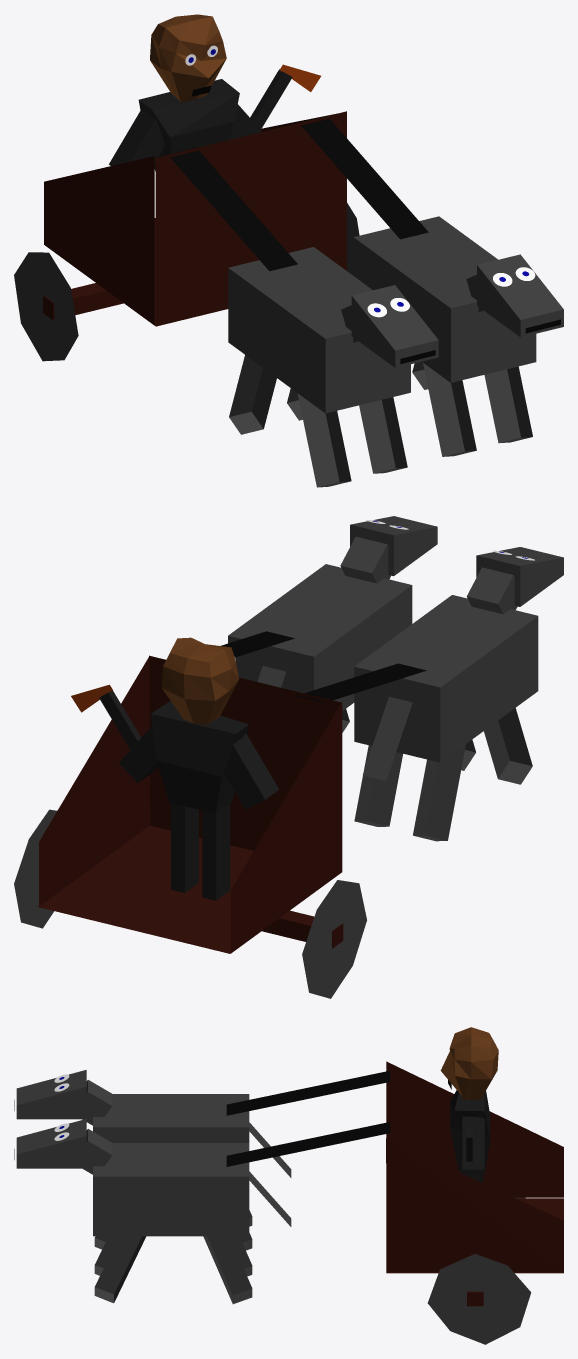
The model's file is lightchariot3.obj.
3 views of the same model, one above another, from view 1: azimuth 30°, elevation 25°; view 2: azimuth 150°, elevation 25°; view 3: azimuth 270°, elevation 25° (orthographic). The views are drawn at different scales.
Visible parts, largest first — view 1: Plane.005_Plane.006, Cube.015_Cube.017, Cube.006_Cube.009, Plane.003, Plane.007_Plane.008, Cube, Cube.001, Cube.021_Cube.023, Cube.014_Cube.016, Plane.013_Plane.014, Plane.012_Plane.013, Cube.019_Cube.021 (+7 smaller); view 2: Cube.015_Cube.017, Cube.006_Cube.009, Plane.003, Plane.002, Plane.004, Plane.005_Plane.006, Cube.001, Cube, Plane.007_Plane.008, Cube.016_Cube.018, Cube.021_Cube.023, Cube.014_Cube.016 (+14 smaller); view 3: Plane.004, Cube.006_Cube.009, Plane.003, Cube.015_Cube.017, Plane.006_Plane.007, Cube, Cube.021_Cube.023, Cube.014_Cube.016, Plane.012_Plane.013, Plane.013_Plane.014, Cube.011_Cube.013, Cube.010_Cube.012 (+7 smaller).
Boxes of the visible parts, x1=… form: Plane.005_Plane.006: x1=155, y1=111, x2=346, y2=326; Cube.015_Cube.017: x1=228, y1=247, x2=410, y2=413; Cube.006_Cube.009: x1=353, y1=216, x2=536, y2=382; Plane.003: x1=44, y1=156, x2=154, y2=325; Plane.007_Plane.008: x1=14, y1=252, x2=78, y2=361; Cube: x1=150, y1=14, x2=226, y2=101; Cube.001: x1=138, y1=79, x2=239, y2=171; Cube.021_Cube.023: x1=351, y1=285, x2=438, y2=367; Cube.014_Cube.016: x1=477, y1=254, x2=563, y2=337; Plane.013_Plane.014: x1=298, y1=115, x2=428, y2=239; Plane.012_Plane.013: x1=167, y1=147, x2=297, y2=271; Cube.019_Cube.021: x1=297, y1=393, x2=351, y2=487; Cube.015_Cube.017: x1=354, y1=595, x2=538, y2=762; Cube.006_Cube.009: x1=228, y1=564, x2=412, y2=710; Plane.003: x1=231, y1=701, x2=342, y2=953; Plane.002: x1=37, y1=825, x2=253, y2=953; Plane.004: x1=39, y1=657, x2=150, y2=906; Plane.005_Plane.006: x1=149, y1=655, x2=341, y2=850; Cube.001: x1=151, y1=701, x2=249, y2=813; Cube: x1=161, y1=637, x2=238, y2=724; Plane.007_Plane.008: x1=302, y1=880, x2=366, y2=998; Cube.016_Cube.018: x1=413, y1=744, x2=465, y2=841; Cube.021_Cube.023: x1=476, y1=547, x2=563, y2=606; Cube.014_Cube.016: x1=350, y1=516, x2=437, y2=576; Plane.004: x1=386, y1=1138, x2=563, y2=1272; Cube.006_Cube.009: x1=93, y1=1143, x2=249, y2=1236; Plane.003: x1=386, y1=1061, x2=563, y2=1197; Cube.015_Cube.017: x1=93, y1=1094, x2=249, y2=1142; Plane.006_Plane.007: x1=427, y1=1254, x2=531, y2=1344; Cube: x1=440, y1=1027, x2=498, y2=1099; Cube.021_Cube.023: x1=16, y1=1070, x2=86, y2=1119; Cube.014_Cube.016: x1=16, y1=1119, x2=86, y2=1168; Plane.012_Plane.013: x1=226, y1=1070, x2=390, y2=1115; Plane.013_Plane.014: x1=226, y1=1122, x2=390, y2=1166; Cube.011_Cube.013: x1=94, y1=1236, x2=146, y2=1303; Cube.010_Cube.012: x1=203, y1=1236, x2=252, y2=1304.
Size of the model in its own units: 7.27 by 7.5 by 14.9.
